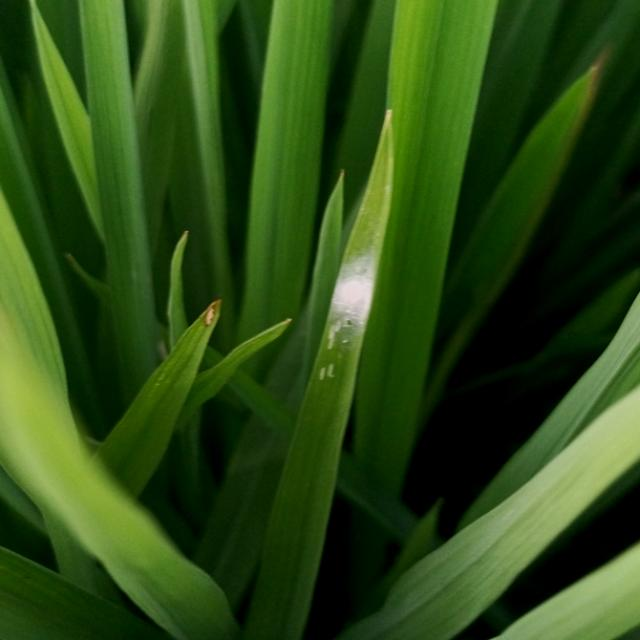brown spot: (188, 284, 234, 336)
